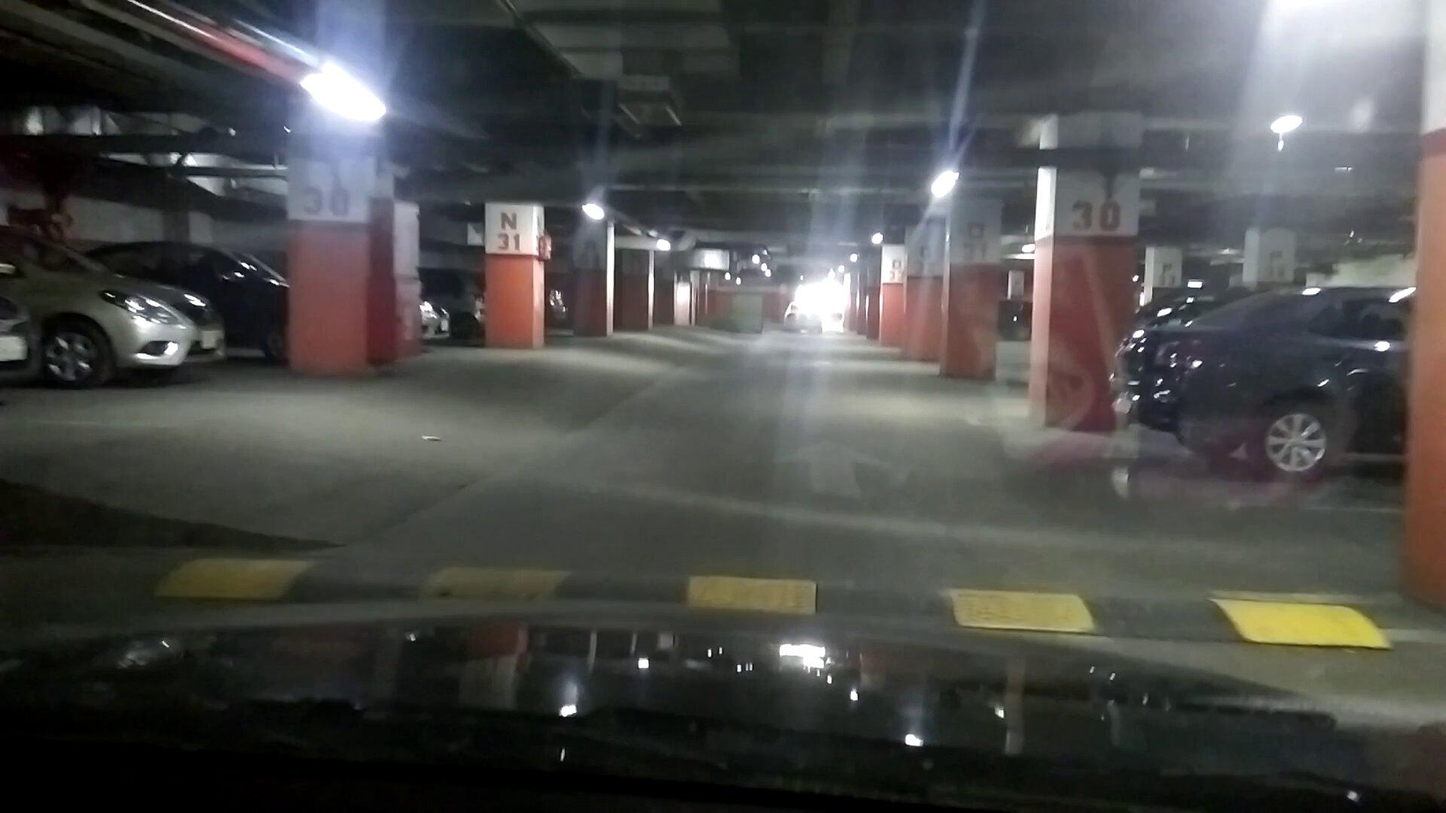Bump: (149, 550, 1406, 653)
